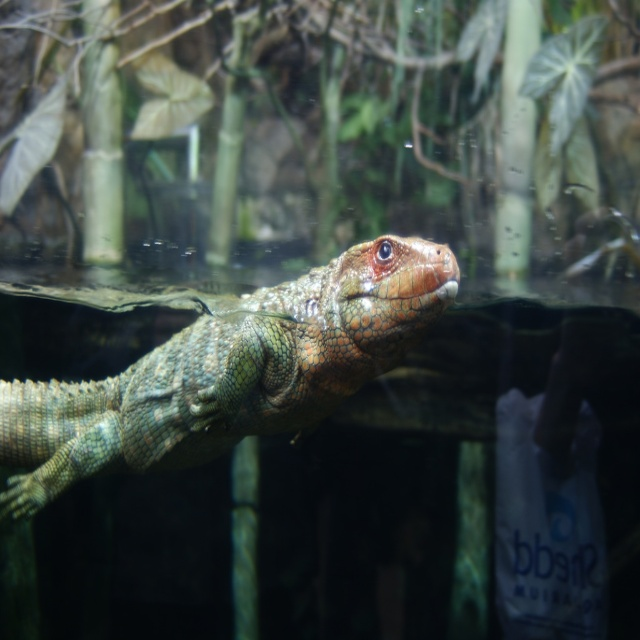Lizard: (10, 200, 498, 545)
